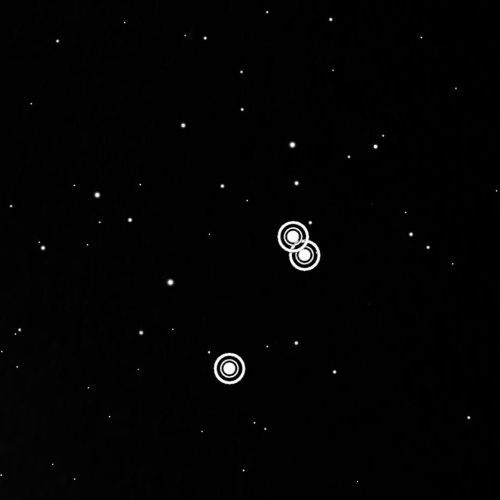canis_minor: (207, 217, 325, 393)
